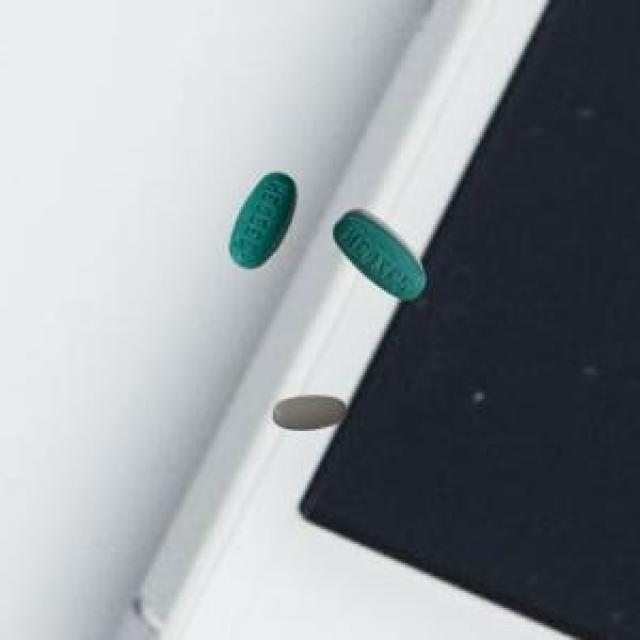Neozep: (326, 207, 430, 315), (224, 162, 301, 284), (269, 382, 358, 441)
